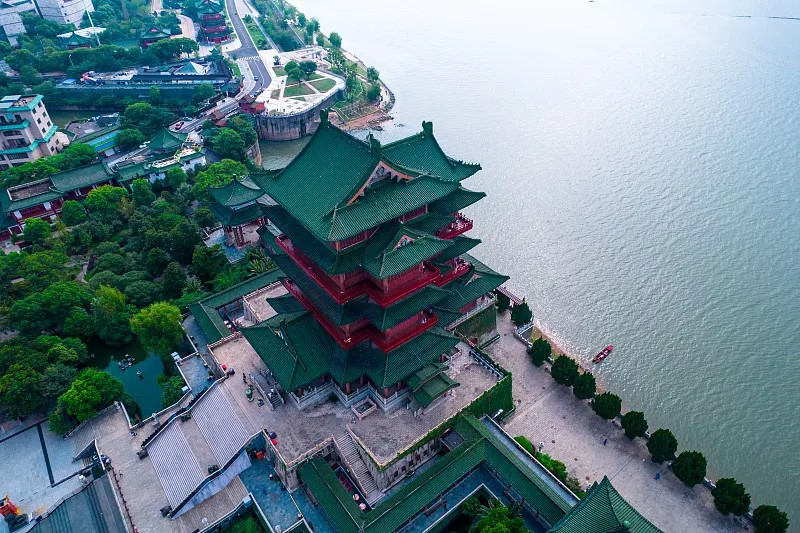Teng: (234, 113, 511, 407)
